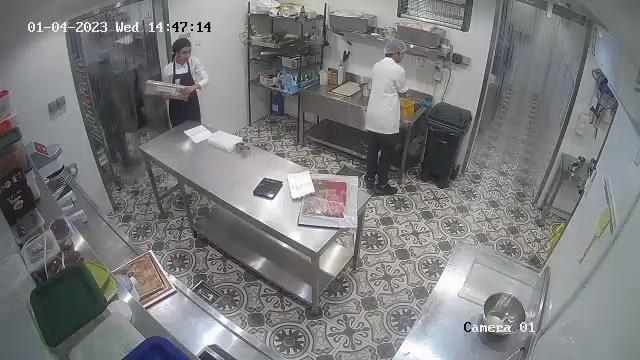apron: (167, 61, 202, 126)
